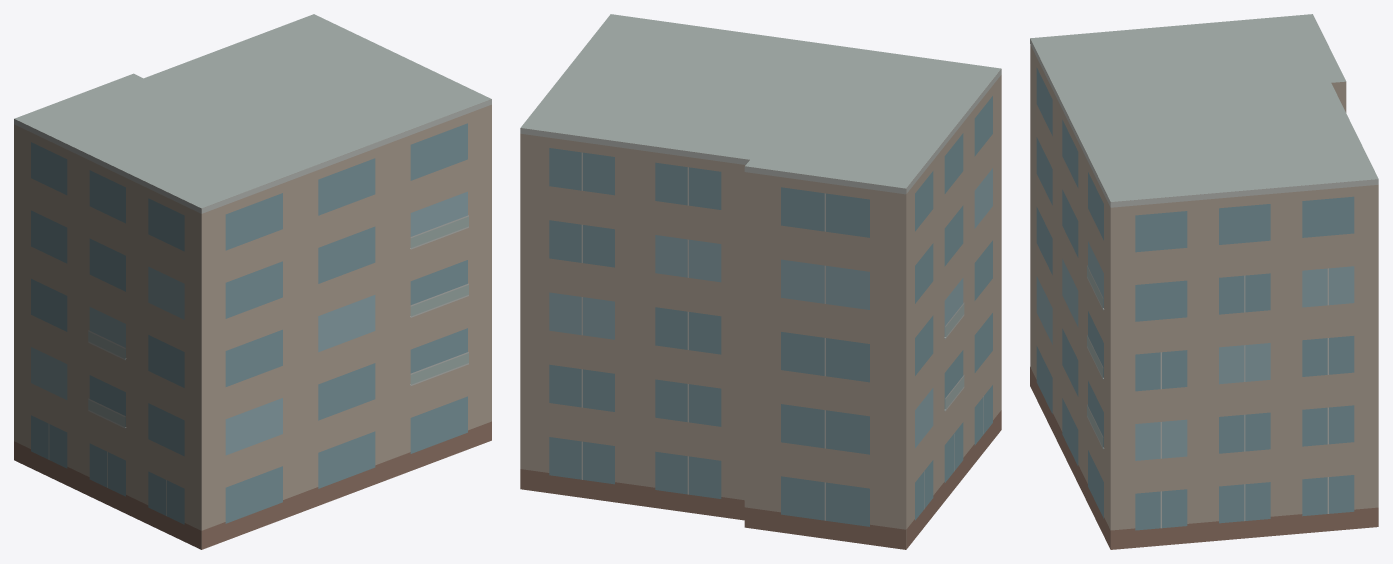
Rendered from survey-upis-32623420.glb.
The picture shows the model from 3 angles, left to right: view 1: azimuth 30°, elevation 25°; view 2: azimuth 150°, elevation 25°; view 3: azimuth 270°, elevation 25°; orthographic projection. The views are drawn at different scales.
Visible parts, largest first — view 1: survey-upis-32623420.tmp; view 2: survey-upis-32623420.tmp; view 3: survey-upis-32623420.tmp.
Part boxes in pixels (x1,y1,x2,y2): survey-upis-32623420.tmp: [14, 14, 491, 549]; survey-upis-32623420.tmp: [520, 14, 1001, 549]; survey-upis-32623420.tmp: [1030, 14, 1378, 549].
Size of the model in its own units: 17.53 by 15.1 by 13.73.
